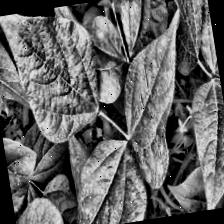Bean Rust: (0, 2, 112, 151), (113, 16, 206, 186), (1, 122, 47, 218), (13, 196, 62, 224)
